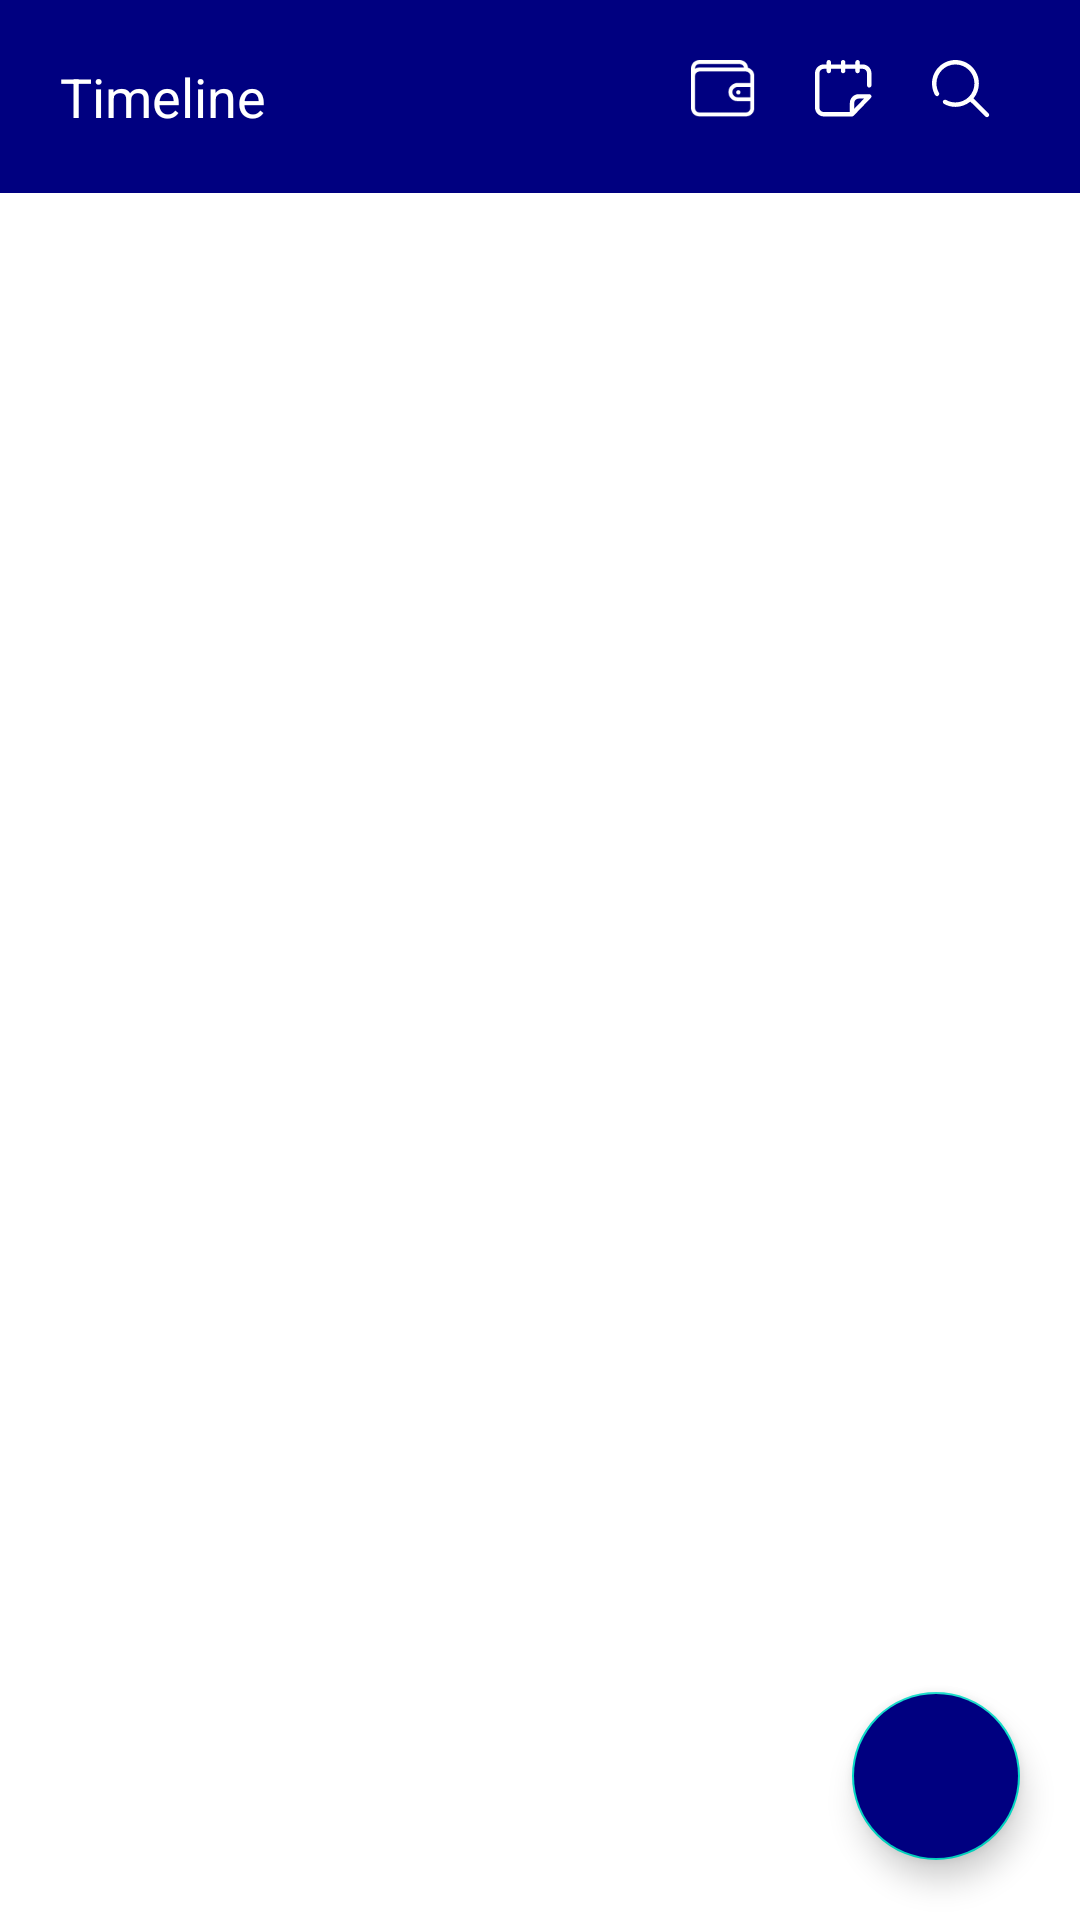

Named icons in this screenshot (1080×1920) and their bounding boxes, detection(x1, y1, x2, y2):
calendar top: detection(815, 60, 872, 117)
search top: detection(932, 60, 989, 117)
wallet top: detection(691, 60, 755, 117)
